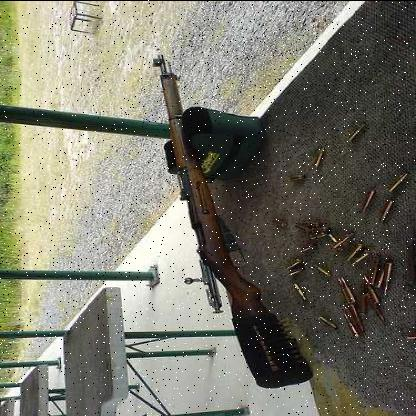rifle: (130, 51, 318, 407)
